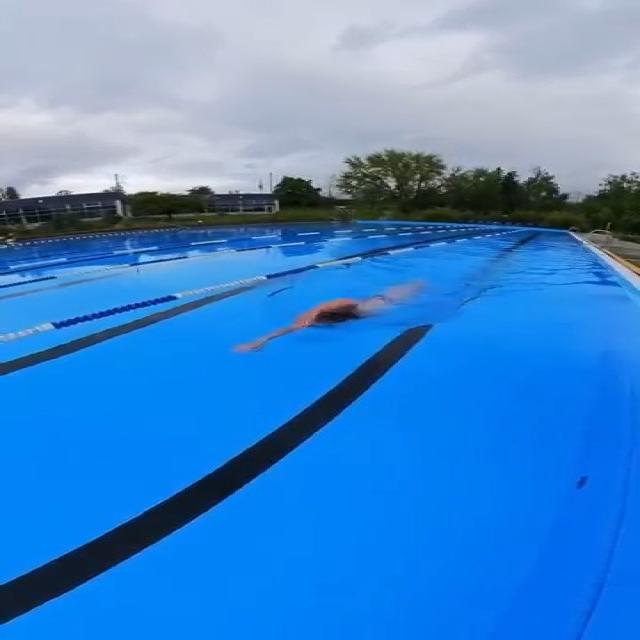Swimming: (231, 280, 428, 354)
